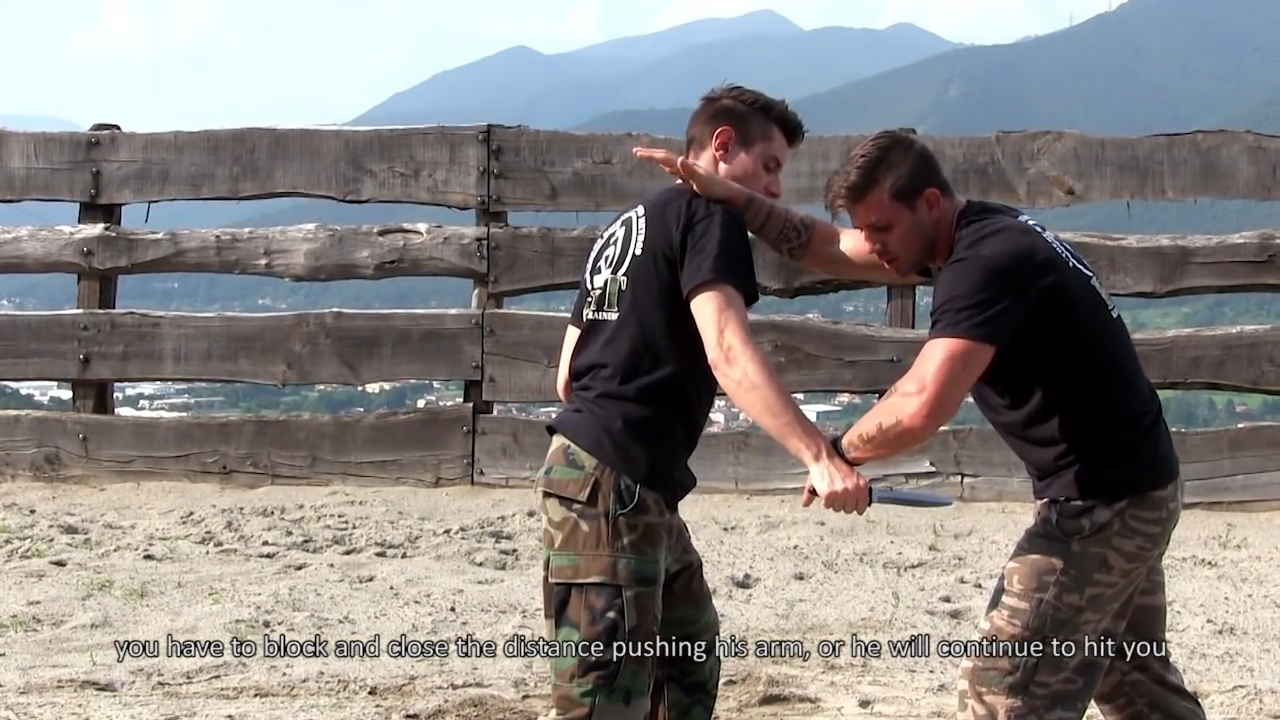knife: (793, 470, 961, 515)
